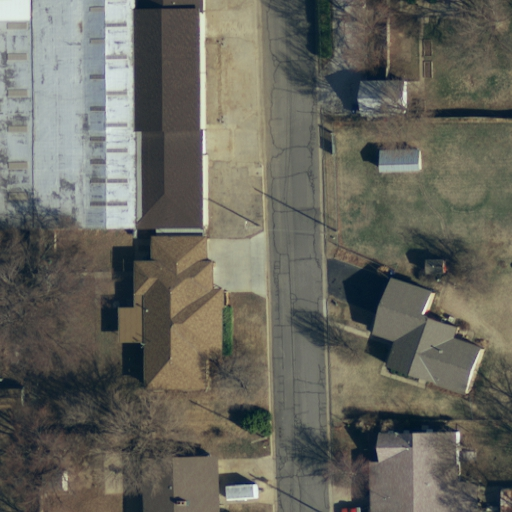DT: (244, 429, 276, 451), (318, 222, 343, 242), (241, 219, 267, 237)
